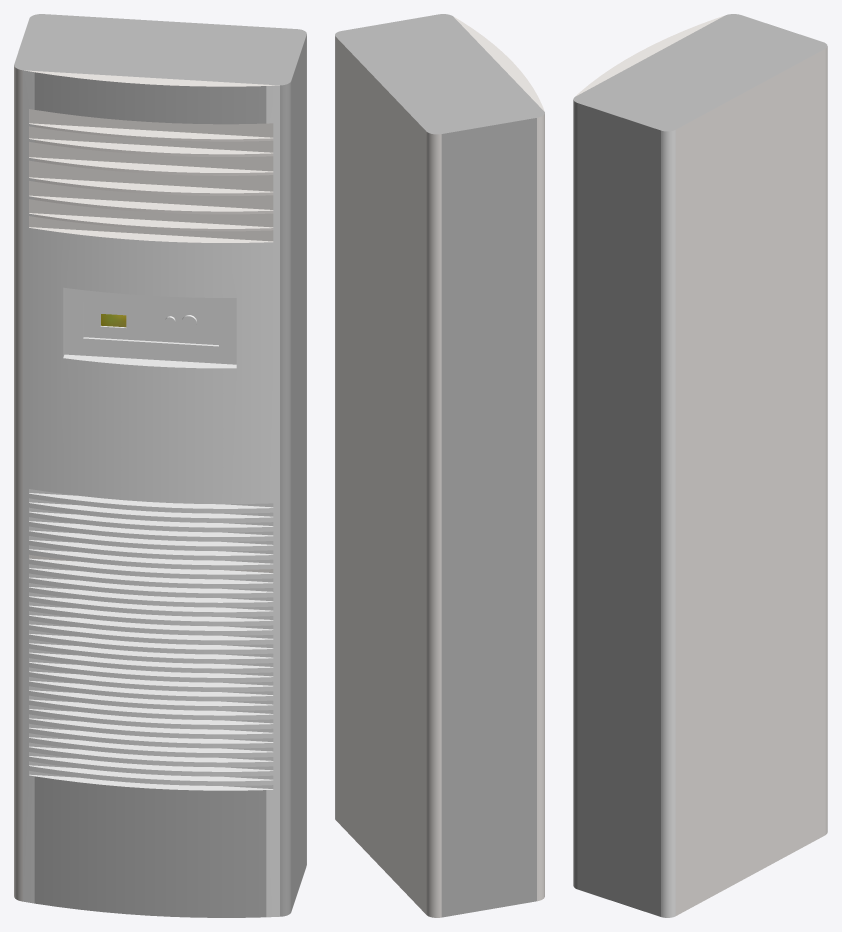
Rendered from air_conditioner_03_fixed.glb.
3 views of the same model, side by side, from view 1: azimuth 30°, elevation 25°; view 2: azimuth 150°, elevation 25°; view 3: azimuth 270°, elevation 25° (orthographic). The views are drawn at different scales.
Parts seen in each view (by area): view 1: room_410_air_conditioner_03_mesh; view 2: room_410_air_conditioner_03_mesh; view 3: room_410_air_conditioner_03_mesh.
Part boxes in pixels (<box>): room_410_air_conditioner_03_mesh: <box>14,14,306,917</box>; room_410_air_conditioner_03_mesh: <box>335,14,544,917</box>; room_410_air_conditioner_03_mesh: <box>573,14,827,917</box>.
Size of what is drawn, in the model's own units: 1.45 by 4.54 by 1.33.
4 materials, 1 textured.
